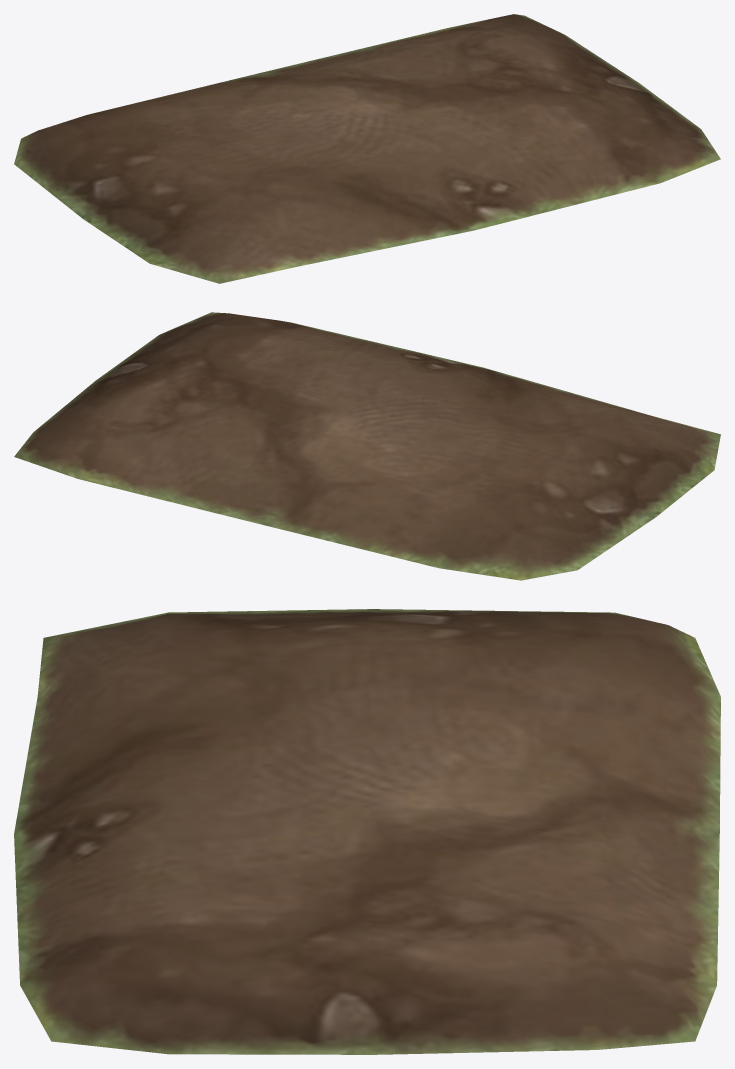
Rendered from GraveDirt.FBX.
3 views of the same model, one above another, from view 1: azimuth 30°, elevation 25°; view 2: azimuth 150°, elevation 25°; view 3: azimuth 270°, elevation 25° (orthographic). The views are drawn at different scales.
Parts seen in each view (by area): view 1: Box001; view 2: Box001; view 3: Box001.
Part boxes in pixels (x1=…): Box001: x1=14, y1=14, x2=720, y2=283; Box001: x1=14, y1=312, x2=720, y2=580; Box001: x1=14, y1=609, x2=720, y2=1054.
Bounding box in the file's own units: 72.79 × 48.78 × 3.91.
Materials: 1 (1 with a texture image).
